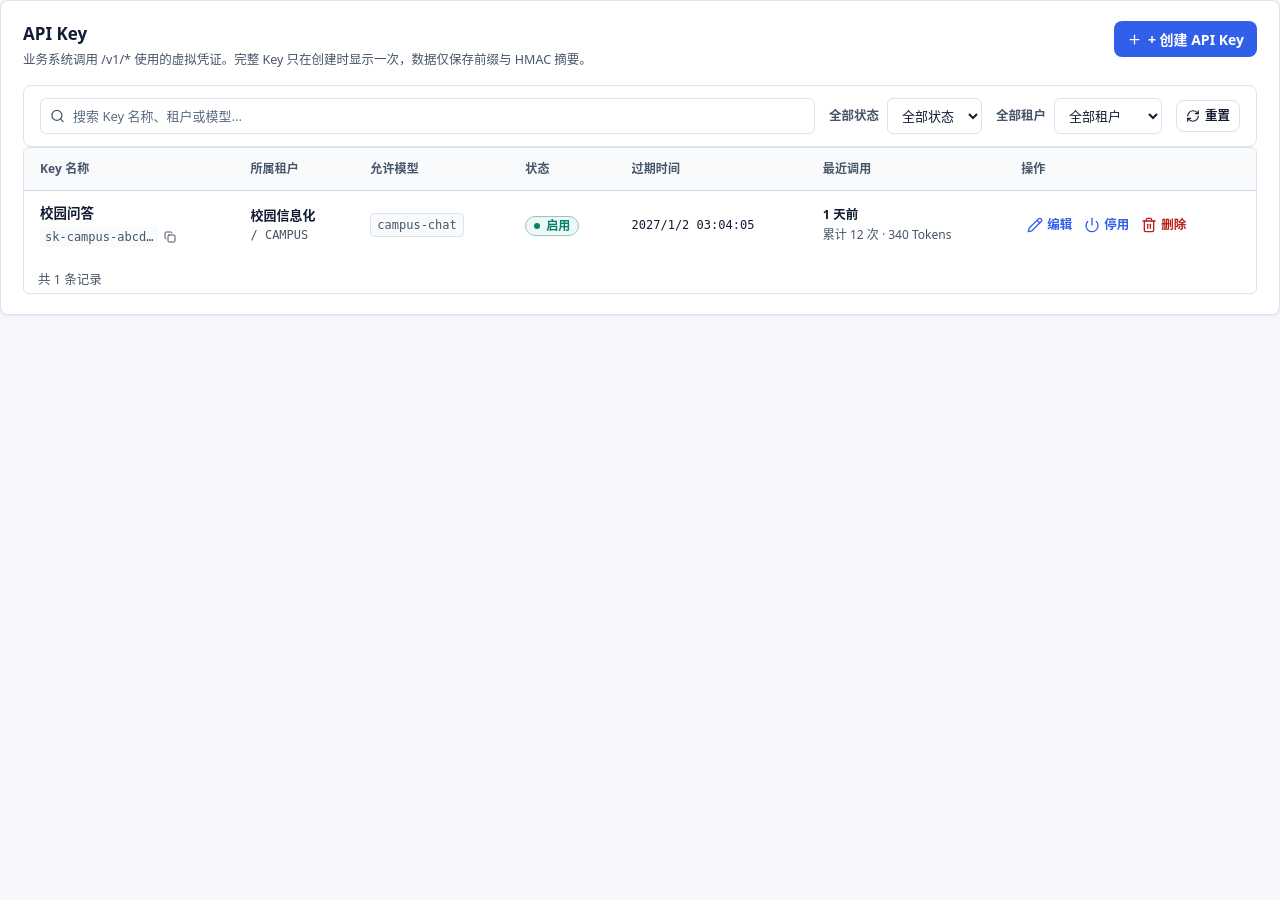
Test case: ApiKeysPage secret handling › keeps the create form open and the input intact when the write fails
Click the button "+ 创建 API Key". click: (1185,39)
box: [1114,21,1257,57]
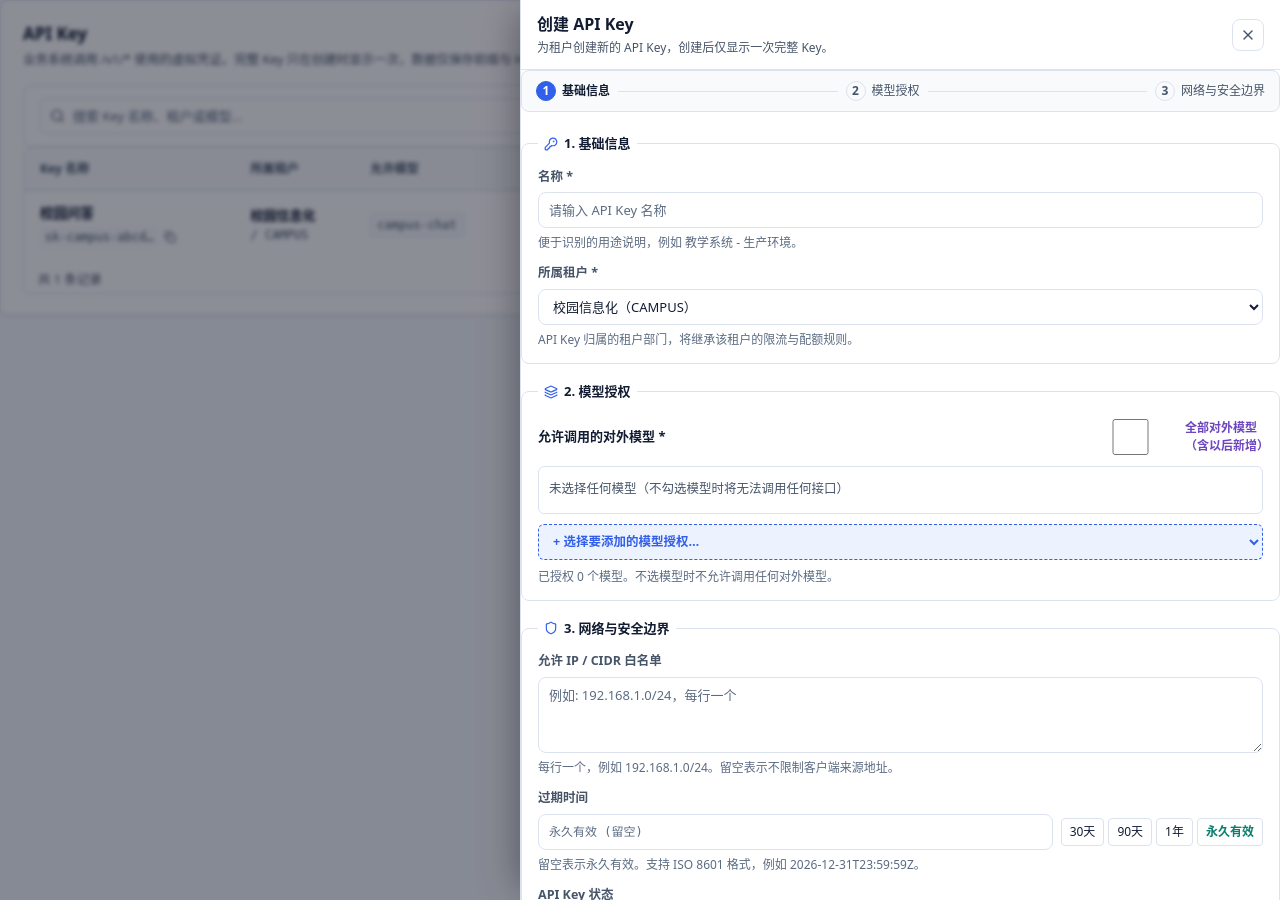
Type "教学系统" into the field with placeholder "请输入 API Key 名称". click: (900,210)
box: [538,192,1263,228]
(page scrolled)
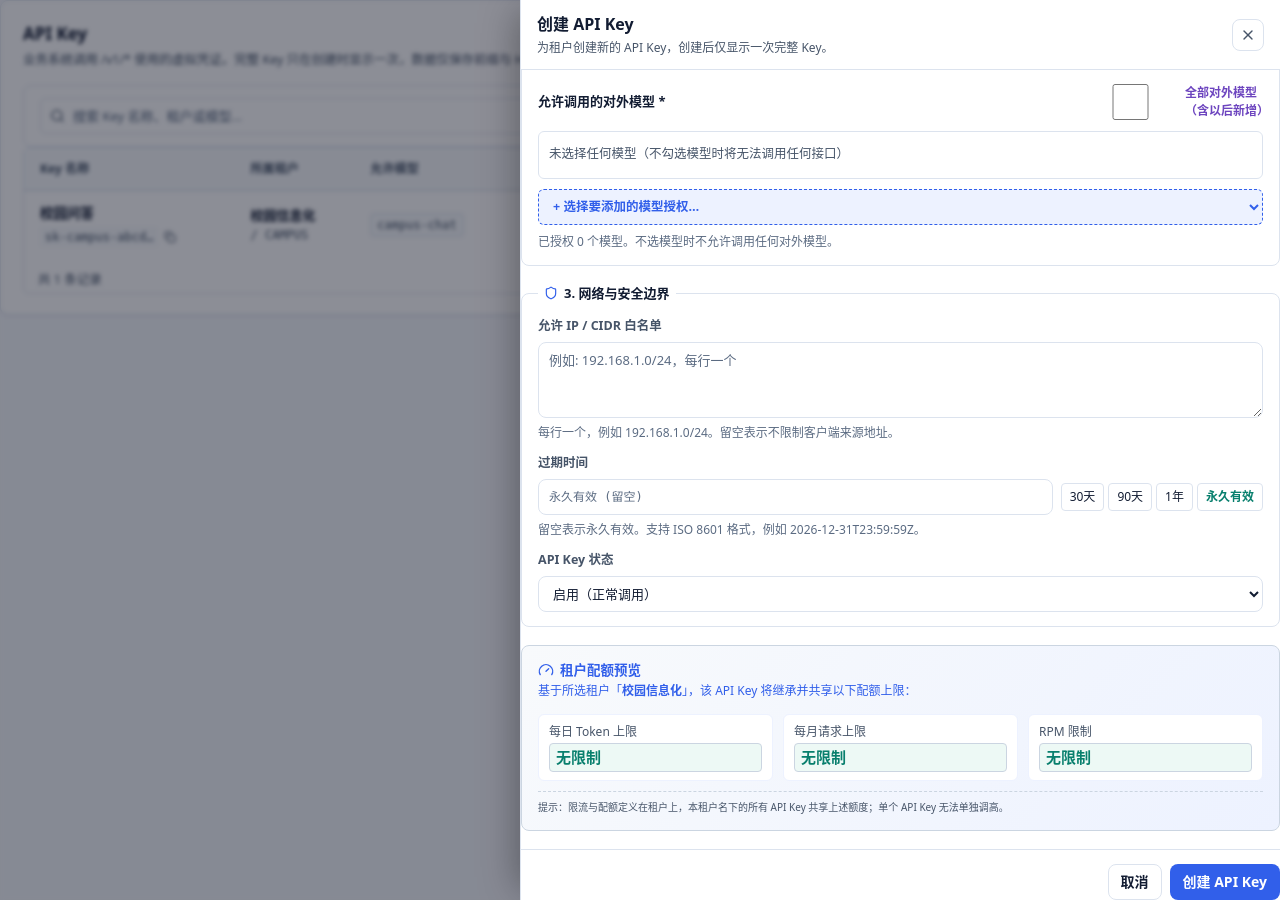
Click the button "创建 API Key". click: (1225,882)
box: [1170,864,1279,899]
(page scrolled)
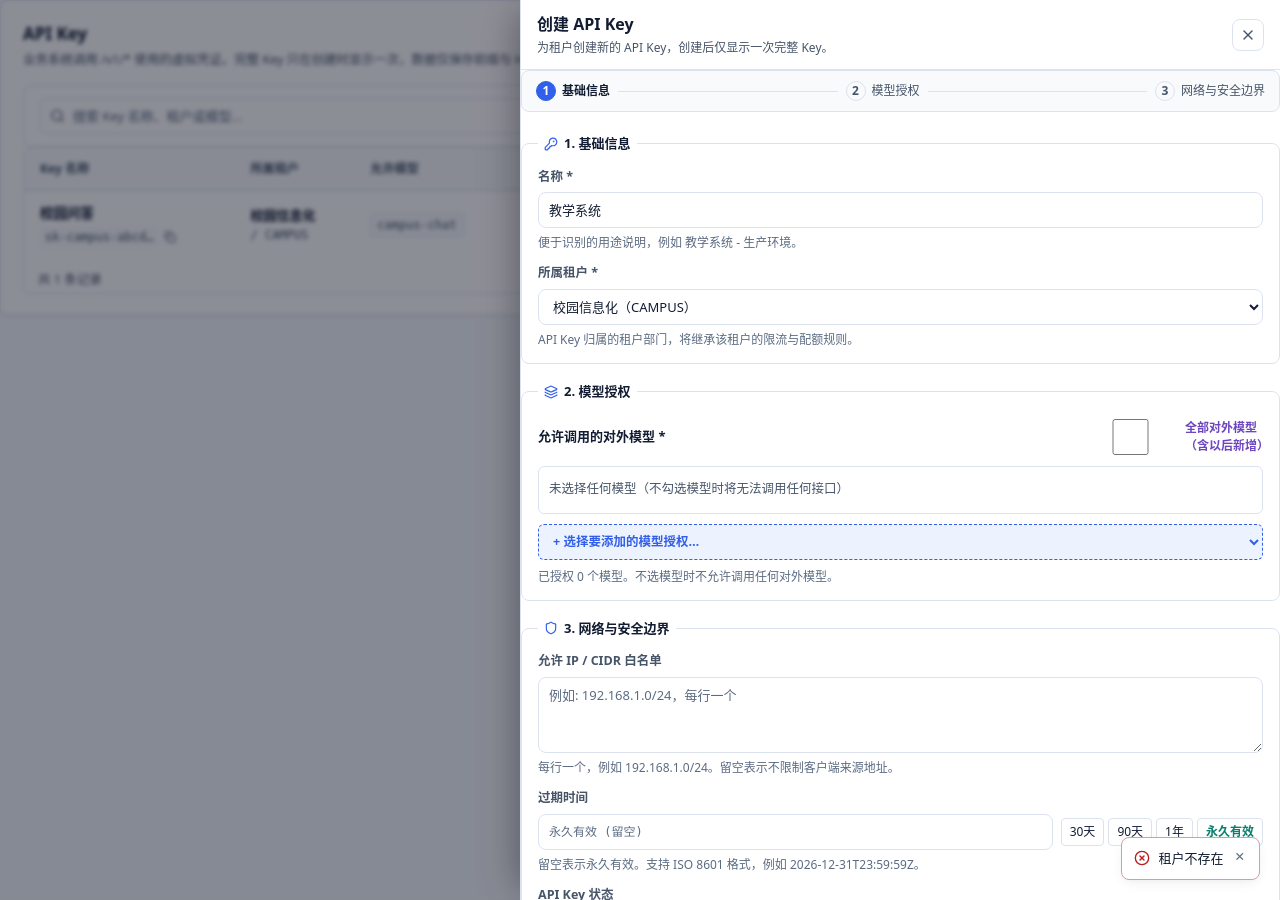
Expected: the text "租户不存在" is shown, [1158,848,1224,868]
